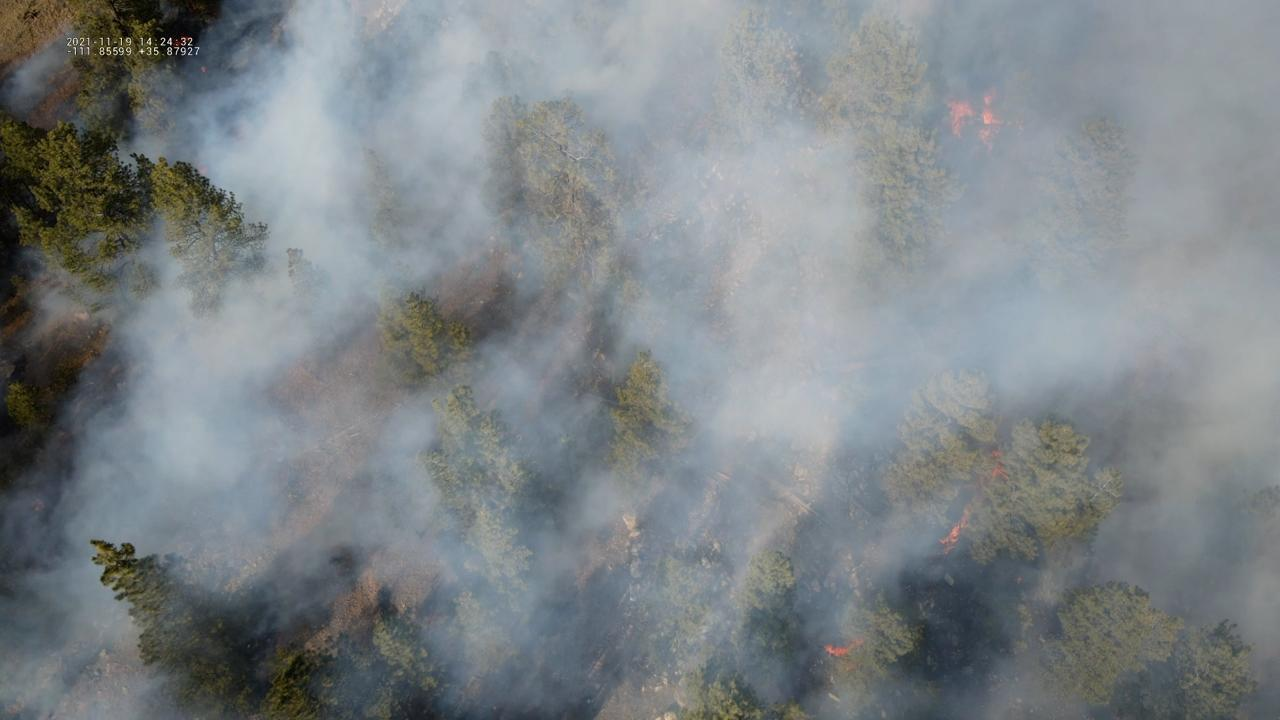fire: (935, 501, 976, 557), (977, 88, 1005, 152), (943, 97, 974, 135), (824, 636, 864, 657), (988, 447, 1012, 480)
smoke: (0, 0, 1280, 720)
